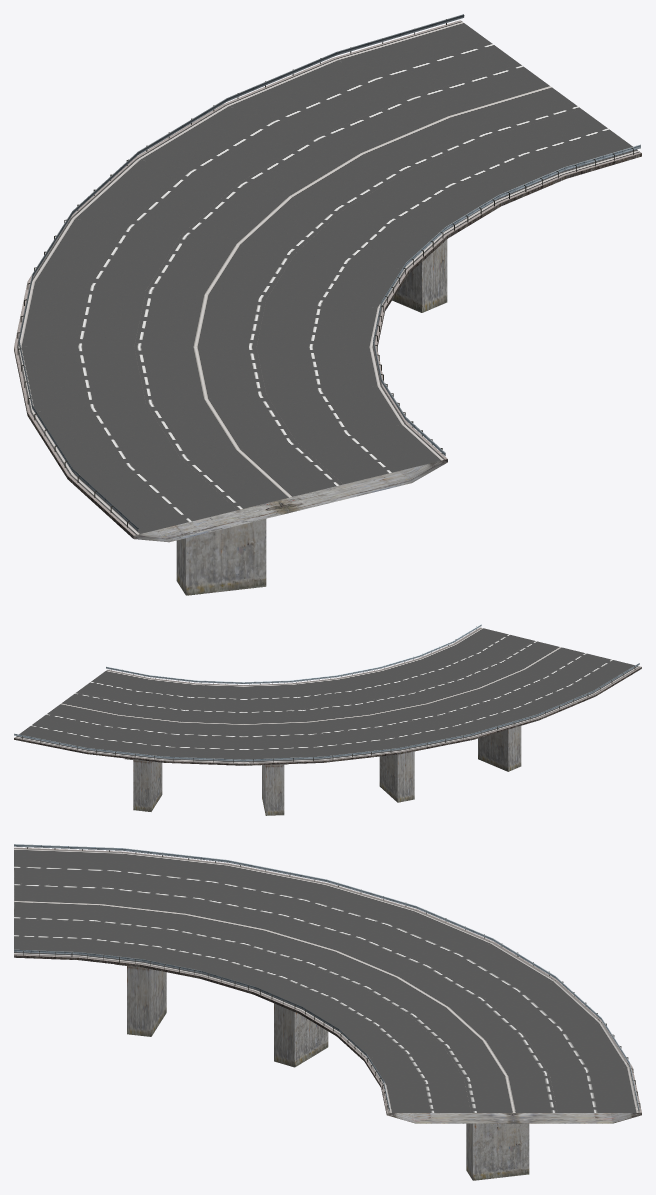
Rendered from 6 lines highway corner with legs.FBX.
3 renders of one model, top to bottom at view 1: azimuth 30°, elevation 25°; view 2: azimuth 150°, elevation 25°; view 3: azimuth 270°, elevation 25°, orthographic. The views are drawn at different scales.
Parts seen in each view (by area): view 1: Object256; view 2: Object256; view 3: Object256.
Boxes of the visible parts, left/top/right/bottom form: Object256: left=14, top=14, right=641, bottom=595; Object256: left=14, top=624, right=641, bottom=815; Object256: left=14, top=844, right=641, bottom=1180.
Size of the model in its own units: 86.49 by 17.99 by 86.31.
